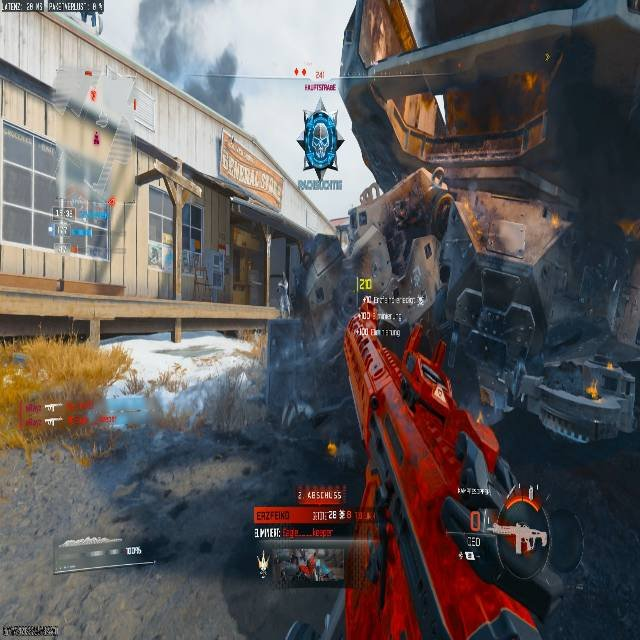player: (295, 109, 343, 178)
